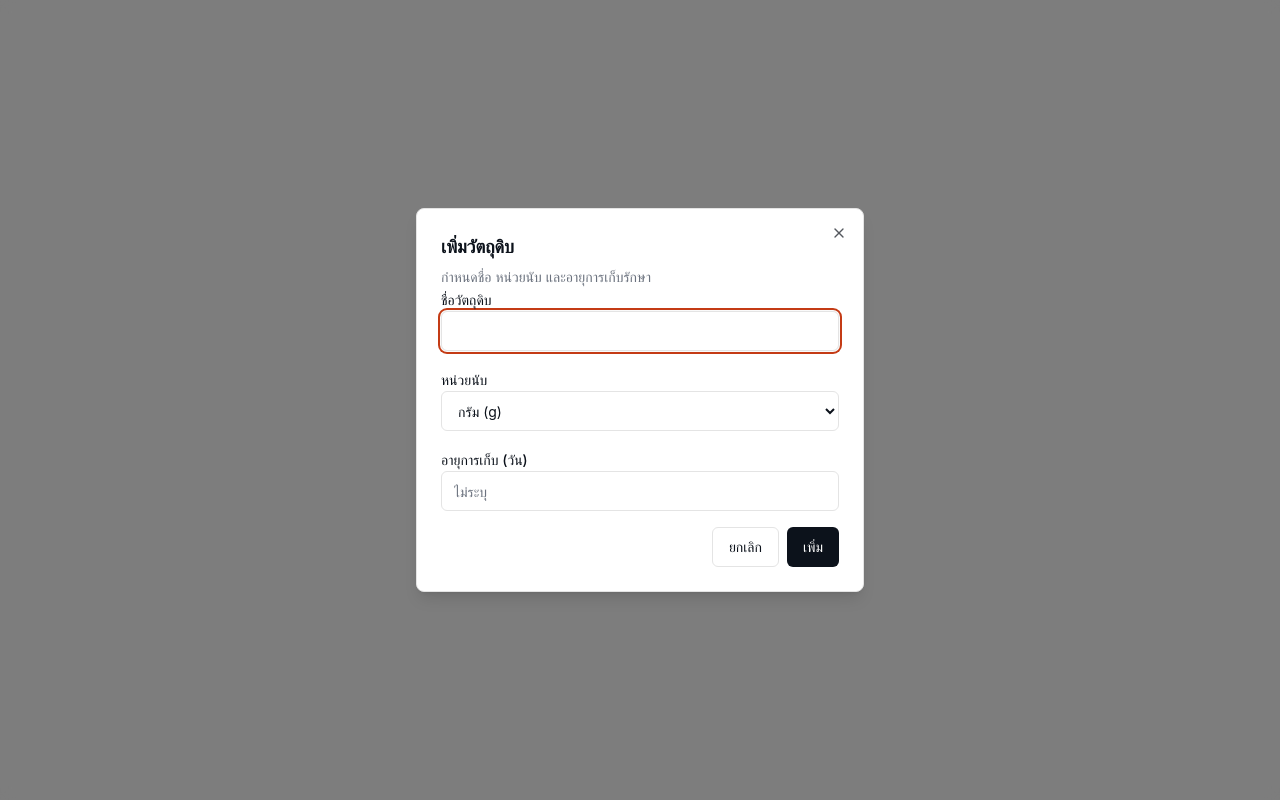
it: IngredientDialog › blocks submit and shows an error when the name is empty
Click the button "เพิ่ม".
click(813, 547)  # box top-left (787, 527), bottom-right (839, 567)
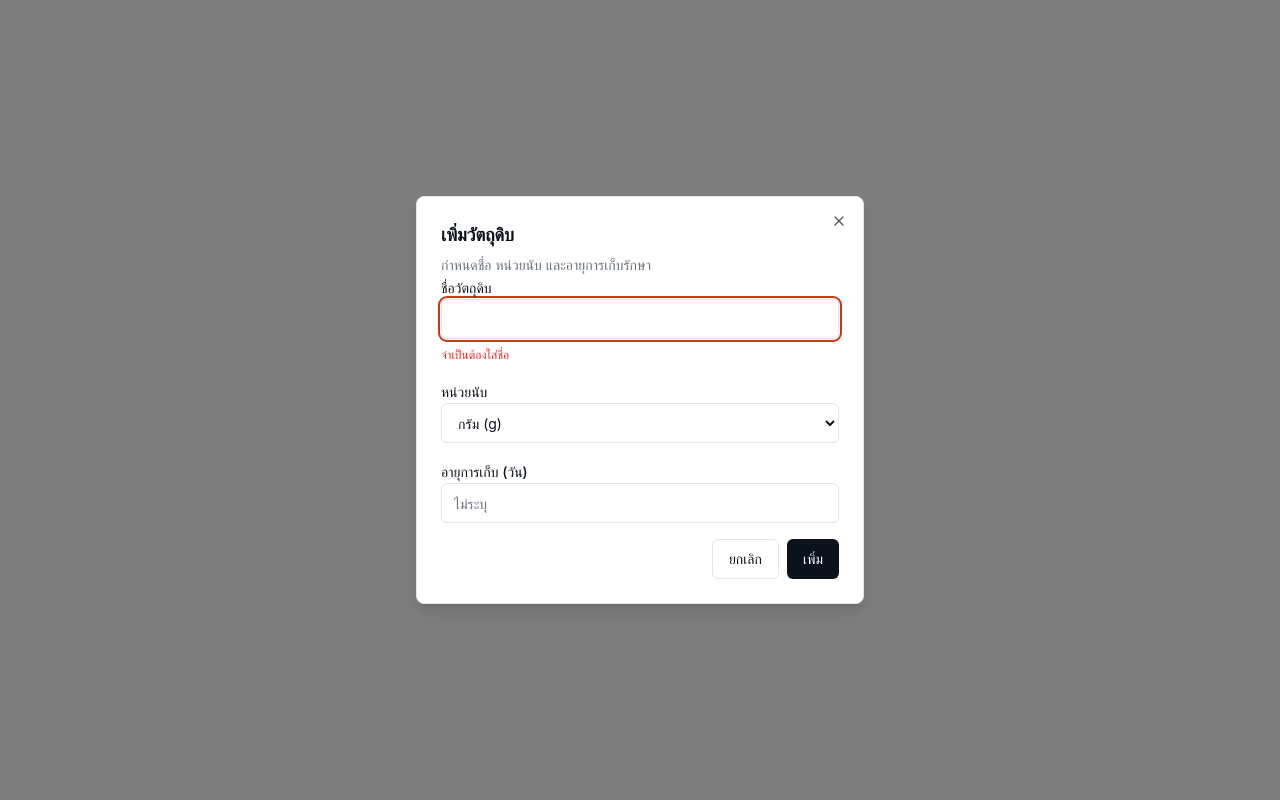
Now the message reads "จำเป็นต้องใส่ชื่อ", box top-left (441, 347), bottom-right (509, 362)
